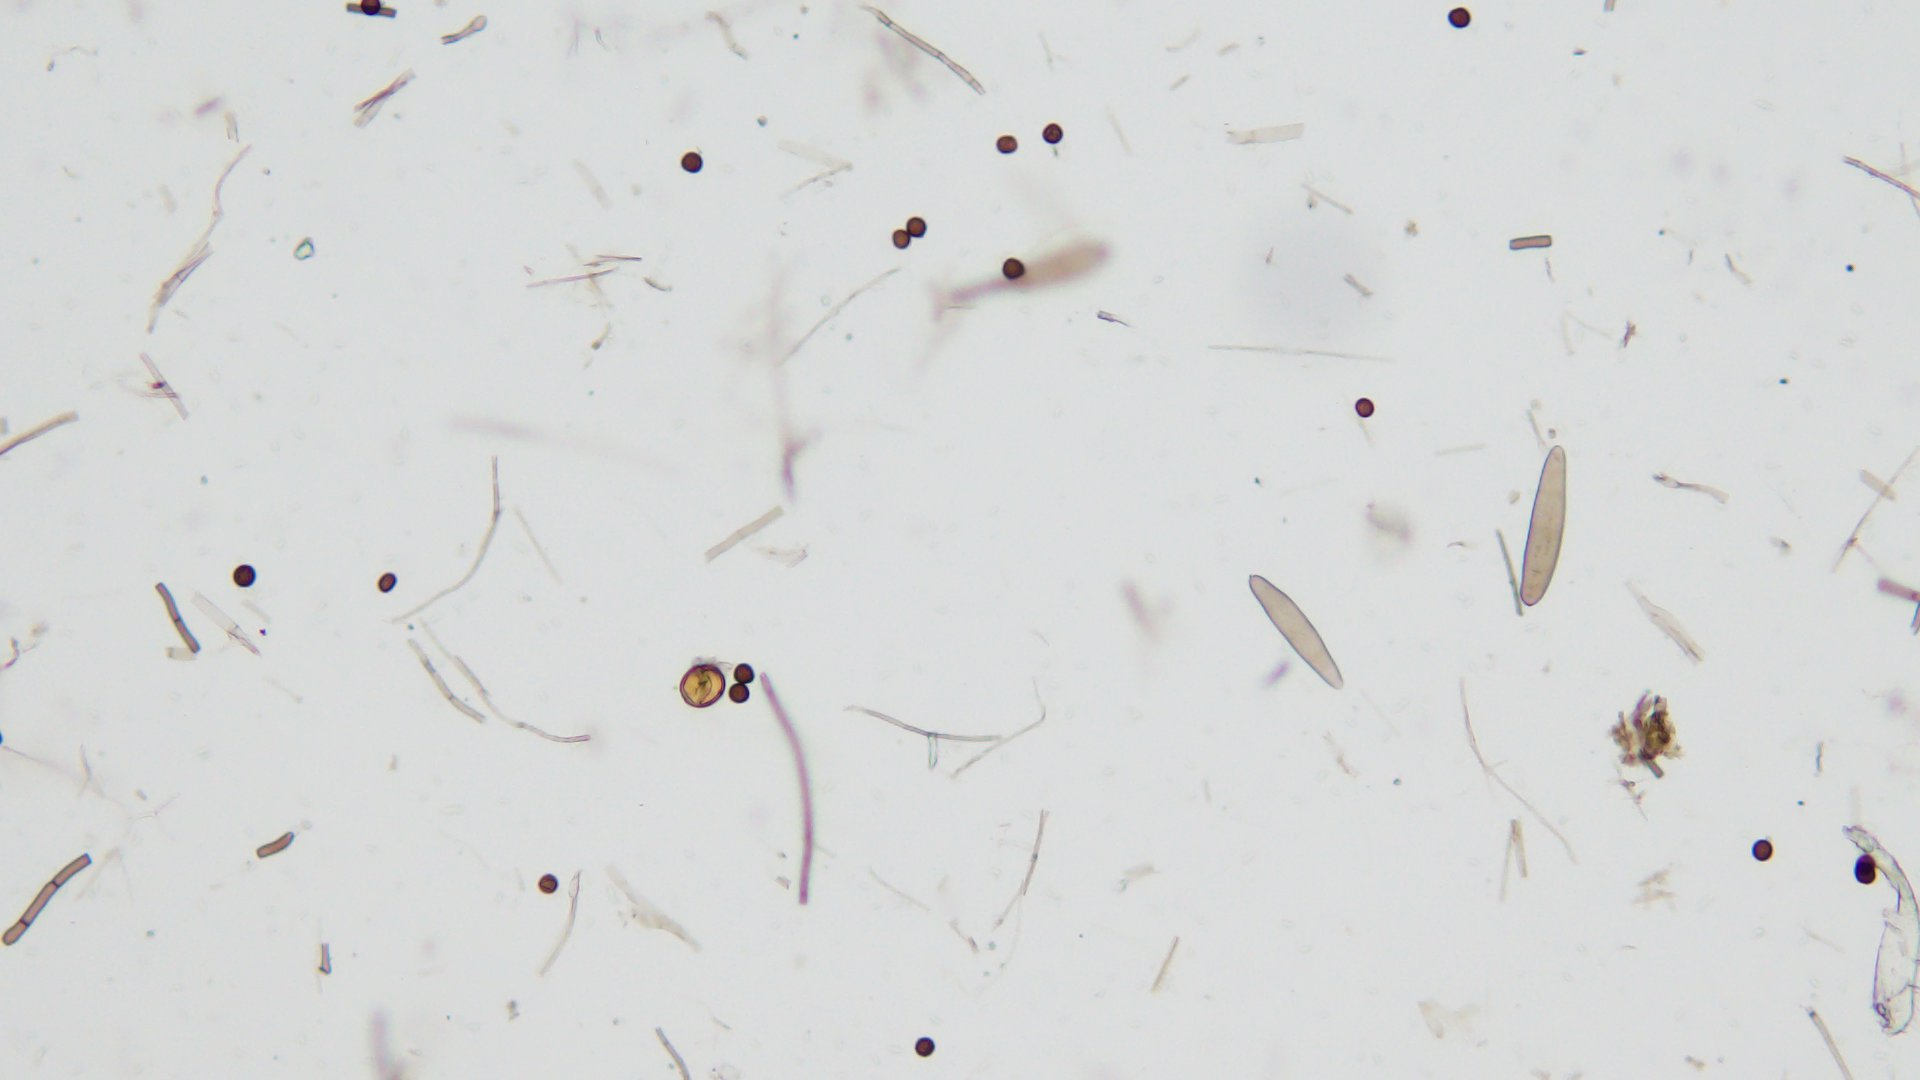dbb_spore: (1247, 574, 1346, 690), (1520, 447, 1573, 607)
shs_spore: (1853, 851, 1879, 884), (998, 256, 1025, 280), (232, 566, 257, 589), (679, 150, 703, 174), (1447, 8, 1472, 30), (914, 1033, 936, 1056), (735, 659, 756, 683), (996, 135, 1019, 156), (539, 873, 560, 895), (1043, 124, 1064, 146), (891, 229, 913, 251), (1753, 839, 1774, 858), (1356, 396, 1374, 418), (909, 216, 927, 237), (731, 682, 746, 704)
xb_spore: (678, 665, 725, 707)
